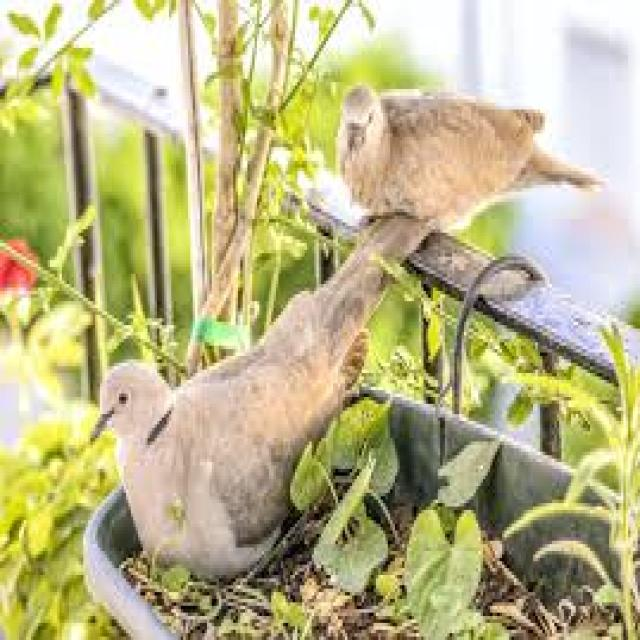pigeon: (91, 272, 454, 570)
